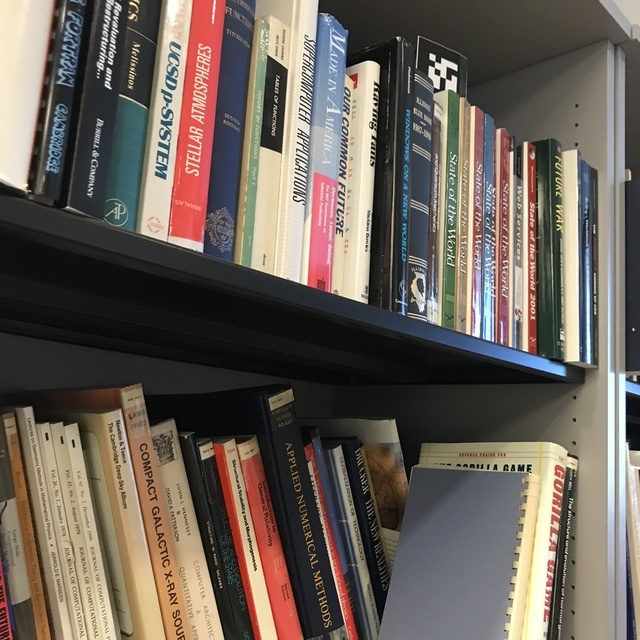ARTag: (411, 35, 467, 105)
